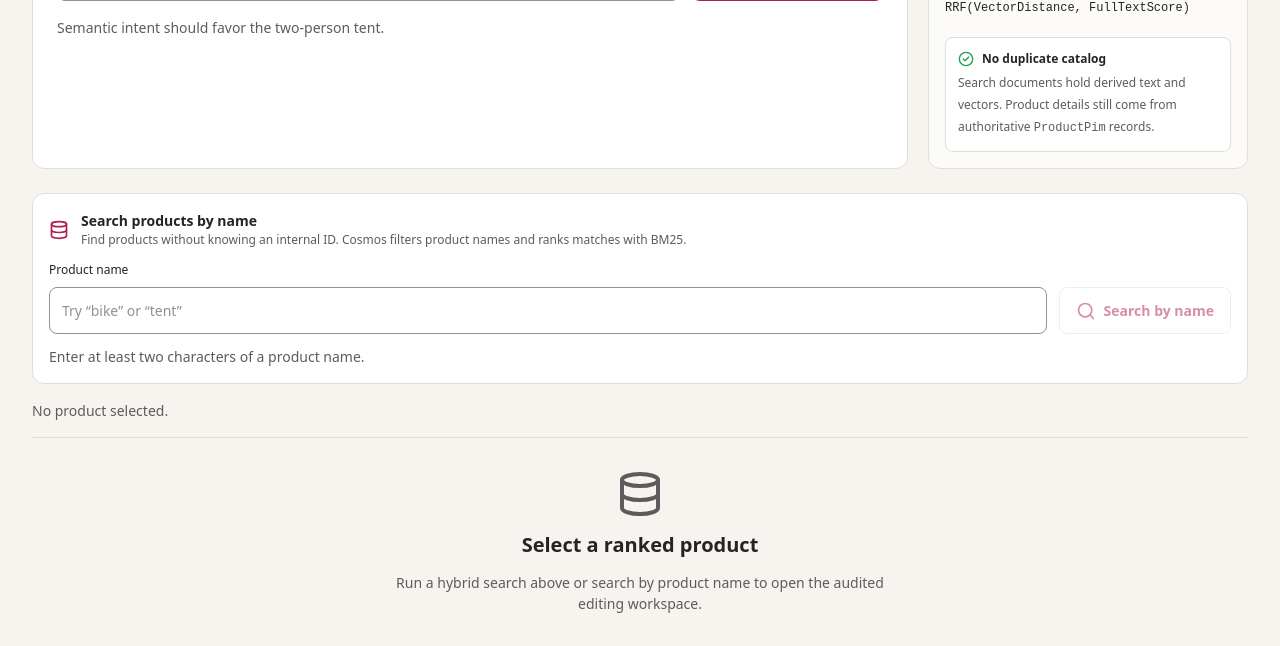
Test case: App › handles unexpected failures without exposing exception details
The width and height of the screenshot is (1280, 646).
(page scrolled)
Type "Test product" into the field labelled "Product name". click: (548, 310)
box: [49,287,1047,334]
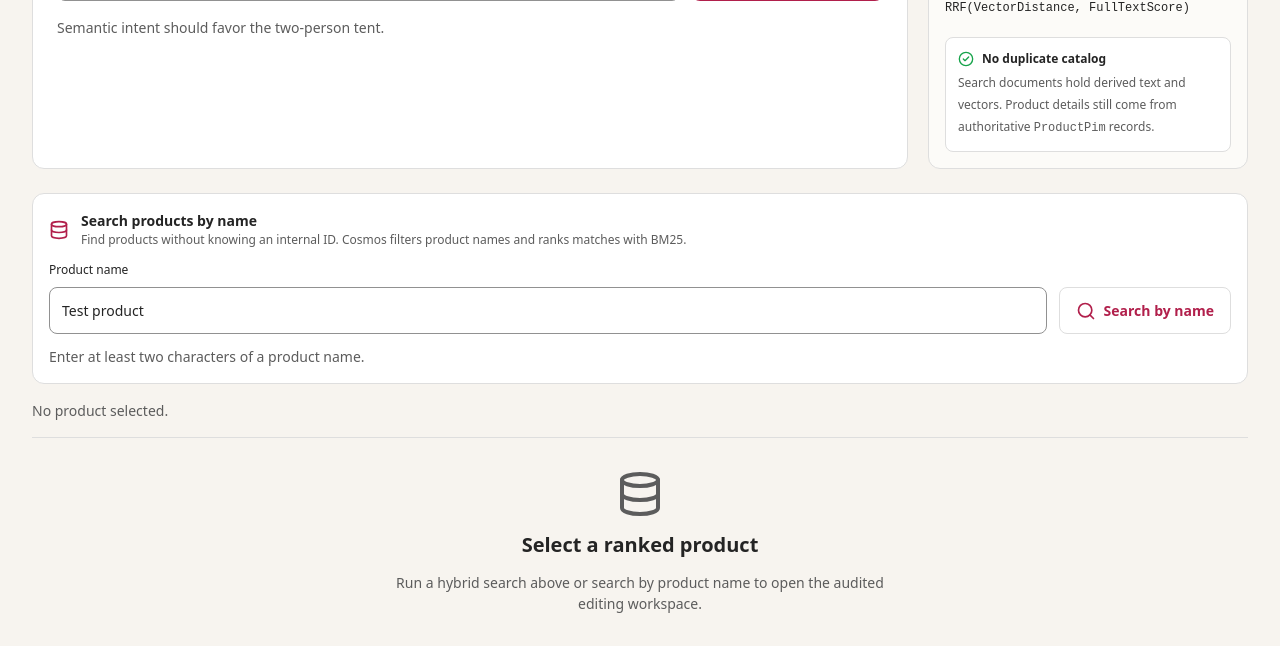
Submit the form "Product name", box [49,261,1231,334]
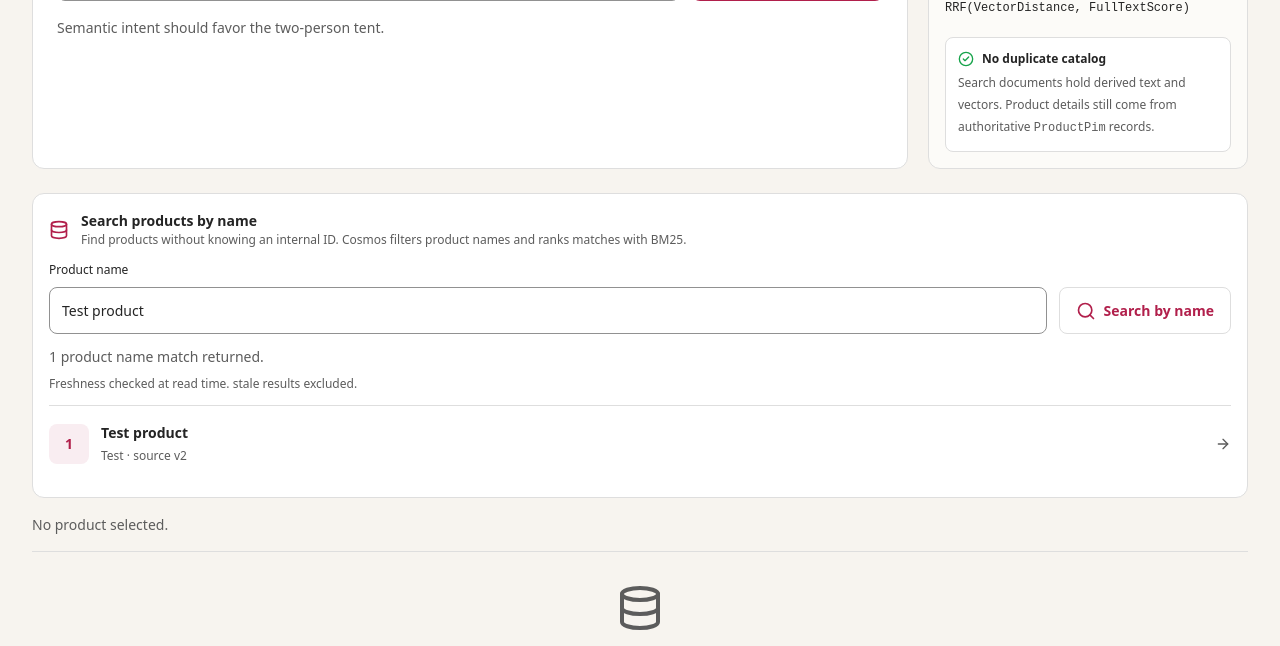
Click the button "1 Test product Test · source v2". click: (69, 444)
box: [49,406,1231,481]
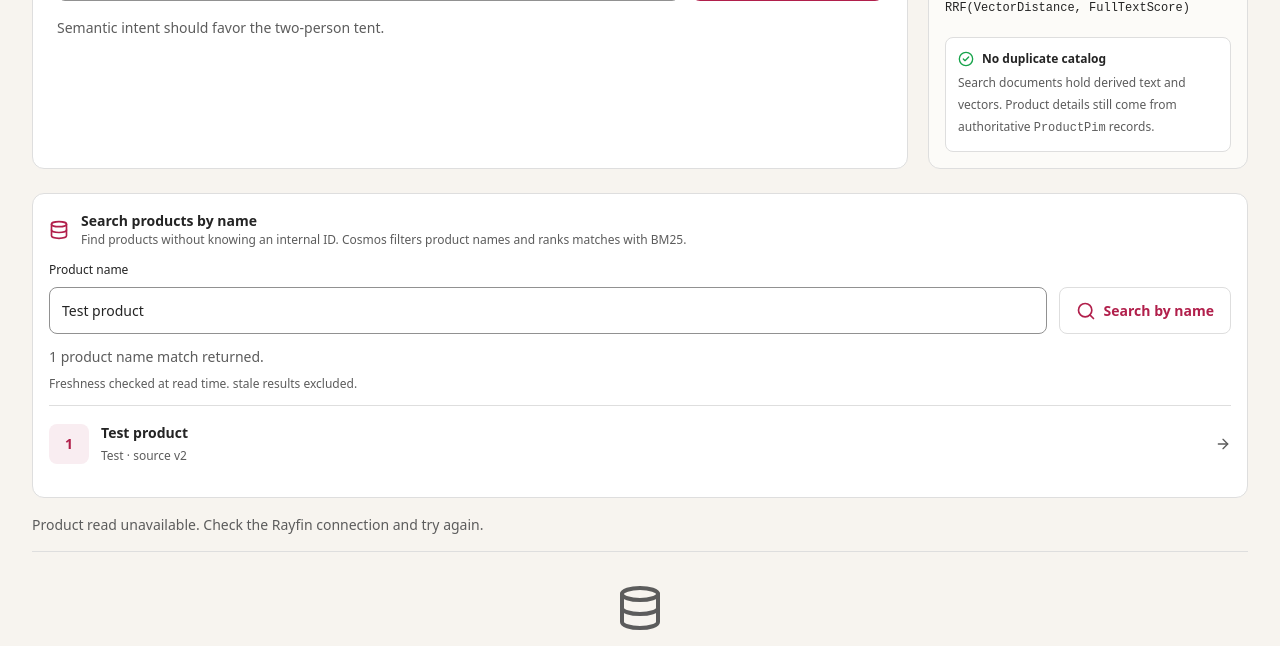
Expected: the button "Search by name" is enabled, [1059,287,1231,334]
Expected: the text "Product read unavailable. Check the Rayfin connection and try again." is shown, [32,515,484,534]
